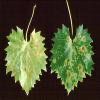grape leaf black rot: (49, 21, 96, 96), (3, 22, 49, 96)
